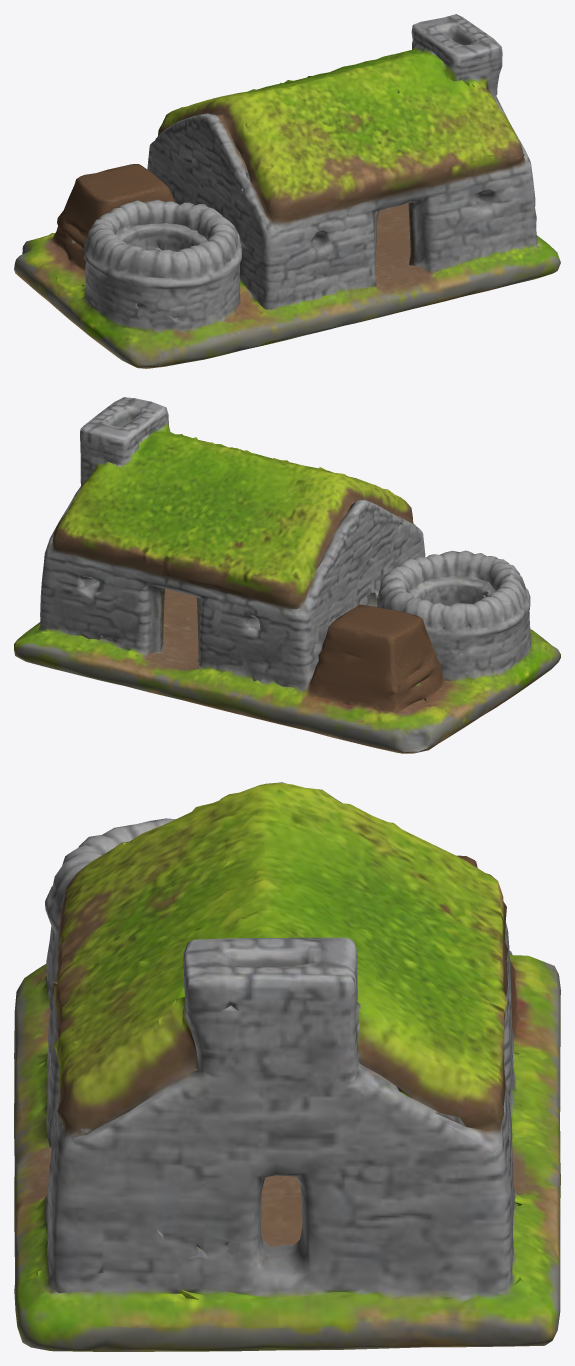
Rendered from village_moor_a.glb.
3 views of the same model, one above another, from view 1: azimuth 30°, elevation 25°; view 2: azimuth 150°, elevation 25°; view 3: azimuth 270°, elevation 25° (orthographic). The views are drawn at different scales.
Visible parts, largest first — view 1: world; view 2: world; view 3: world.
Part boxes in pixels (left/top/right/bottom): world: left=14, top=14, right=560, bottom=368; world: left=14, top=397, right=560, bottom=753; world: left=14, top=782, right=560, bottom=1351.
Size of the model in its own units: 1 by 0.4505 by 0.6054.
Materials: 1 (1 with a texture image).
